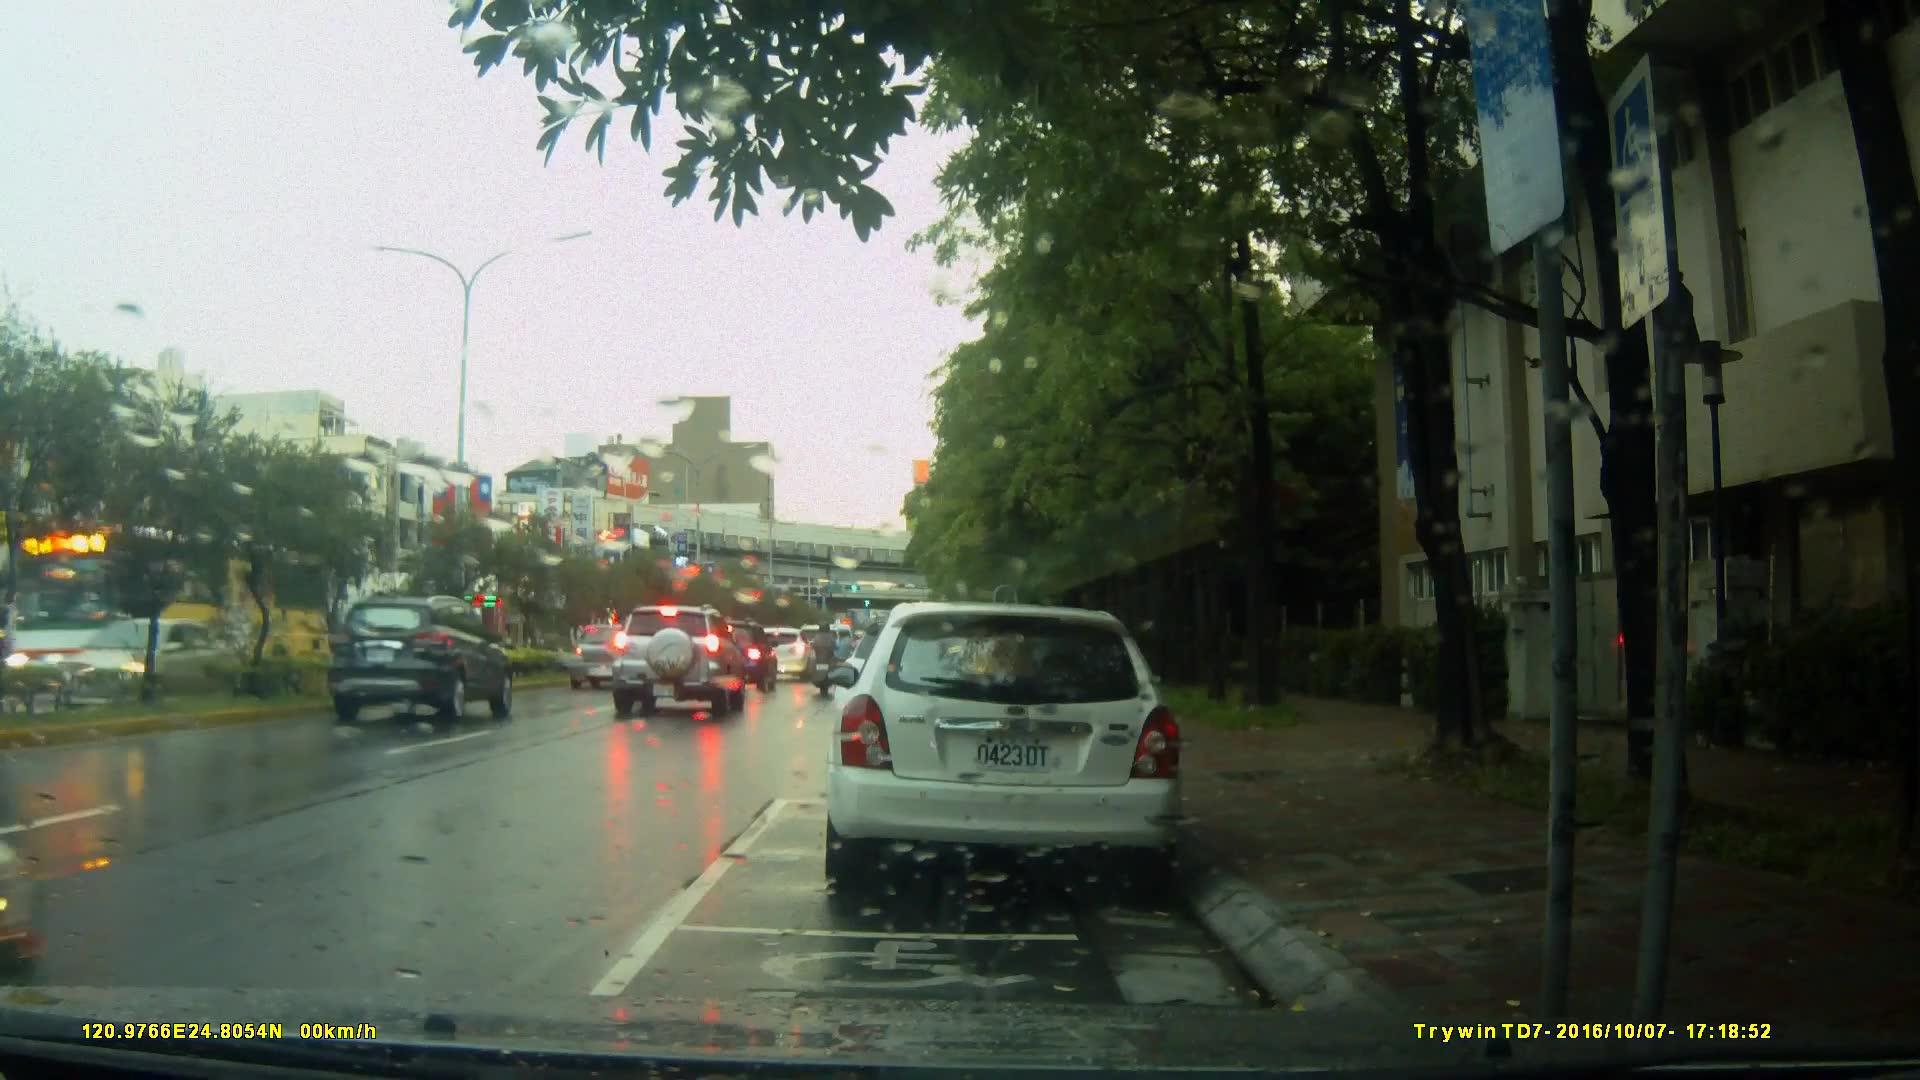rider: (808, 618, 844, 704)
vehicle: (820, 602, 1188, 898), (13, 530, 322, 686), (325, 590, 517, 723), (606, 604, 746, 722), (691, 618, 781, 695)
